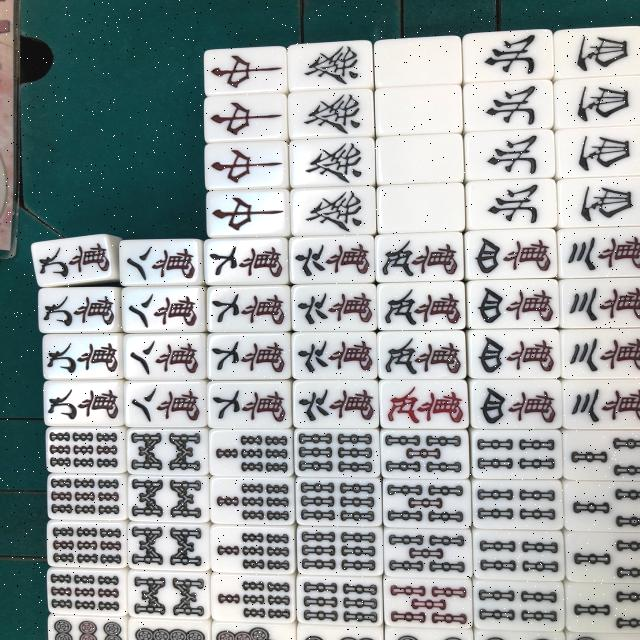bamboos_4: (470, 481, 563, 530), (471, 530, 564, 578), (472, 430, 564, 478), (472, 580, 564, 628)
bamboos_5: (378, 429, 471, 478), (381, 579, 474, 628), (381, 529, 473, 578), (383, 479, 475, 527)
bamboos_6: (293, 428, 379, 478), (296, 478, 382, 528), (297, 526, 383, 576), (296, 576, 382, 626)
bamboos_7: (207, 429, 294, 479), (210, 524, 297, 574), (209, 478, 295, 528), (209, 574, 295, 624)
bamboos_8: (125, 522, 212, 572), (125, 570, 212, 620), (126, 426, 212, 476), (126, 474, 212, 524)
bamboos_9: (43, 474, 125, 521), (46, 521, 127, 568), (44, 427, 126, 473), (46, 570, 126, 616)
characters_4: (470, 326, 561, 380), (467, 227, 557, 281), (470, 377, 560, 430), (468, 278, 558, 330)
characters_5: (375, 232, 464, 283), (377, 330, 466, 381), (378, 280, 468, 330), (380, 380, 469, 430)
characters_6: (288, 233, 377, 284), (289, 283, 378, 333), (291, 380, 380, 430), (290, 332, 378, 382)
characters_7: (204, 236, 290, 287), (205, 283, 290, 334), (206, 378, 291, 429), (206, 332, 290, 382)
characters_8: (123, 285, 207, 333), (123, 334, 207, 382), (122, 382, 206, 430), (120, 238, 203, 286)
characters_9: (31, 232, 115, 288), (43, 379, 122, 427), (40, 285, 119, 333), (44, 333, 123, 380)
green: (288, 40, 377, 90), (287, 88, 376, 138), (286, 136, 375, 186), (290, 186, 378, 236)
north: (462, 80, 556, 132), (462, 29, 553, 82), (464, 179, 557, 230), (464, 130, 554, 182)
red: (206, 188, 290, 238), (204, 138, 288, 188), (205, 90, 288, 140), (204, 44, 287, 94)
white: (373, 84, 463, 134), (376, 183, 465, 233), (377, 134, 466, 184), (374, 34, 463, 84)
